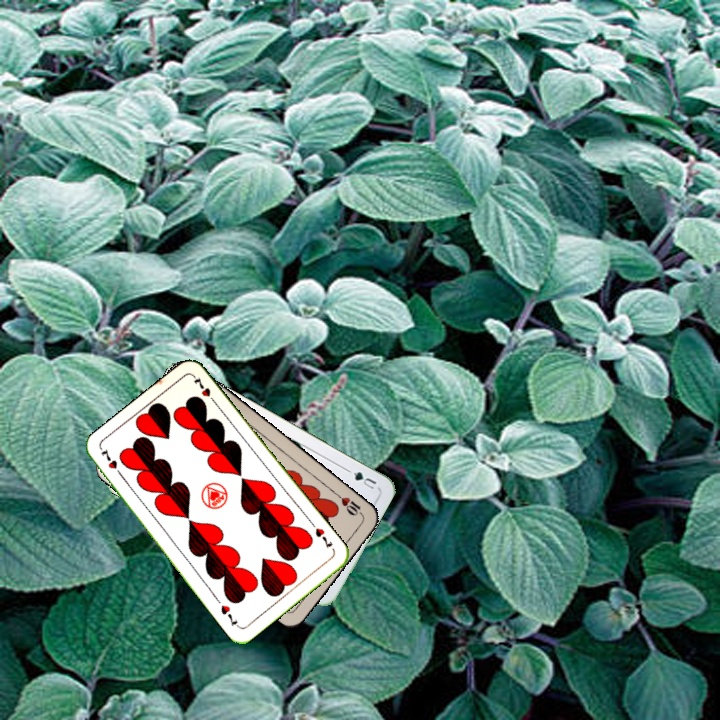GU: (343, 465, 379, 492)
H10: (331, 489, 366, 519)
H7: (97, 445, 126, 481), (311, 524, 335, 551)
